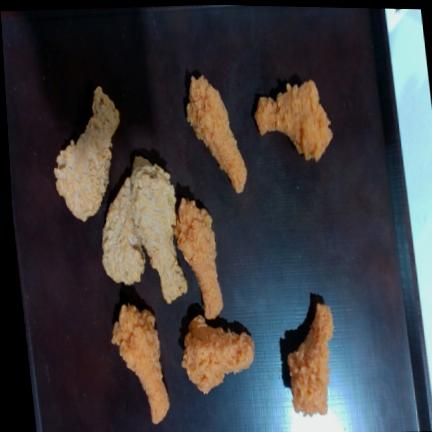chicken: (54, 86, 120, 221), (131, 157, 187, 303), (187, 75, 247, 193), (112, 304, 170, 423), (255, 80, 333, 161), (174, 197, 223, 318), (183, 316, 254, 394), (287, 303, 334, 415), (103, 177, 145, 285)
